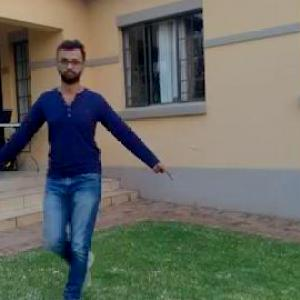land: (13, 65, 161, 281)
